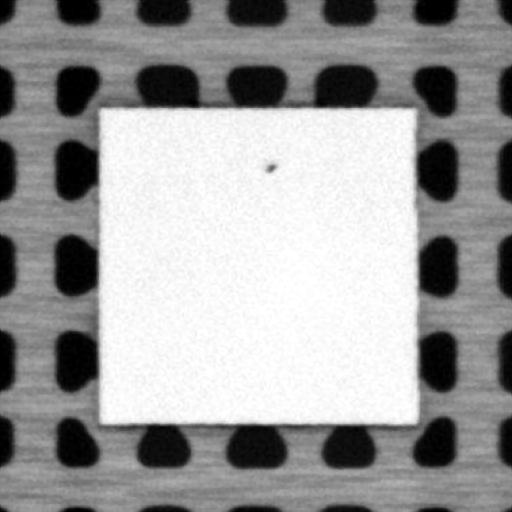DIE_INK: (261, 158, 278, 174)
